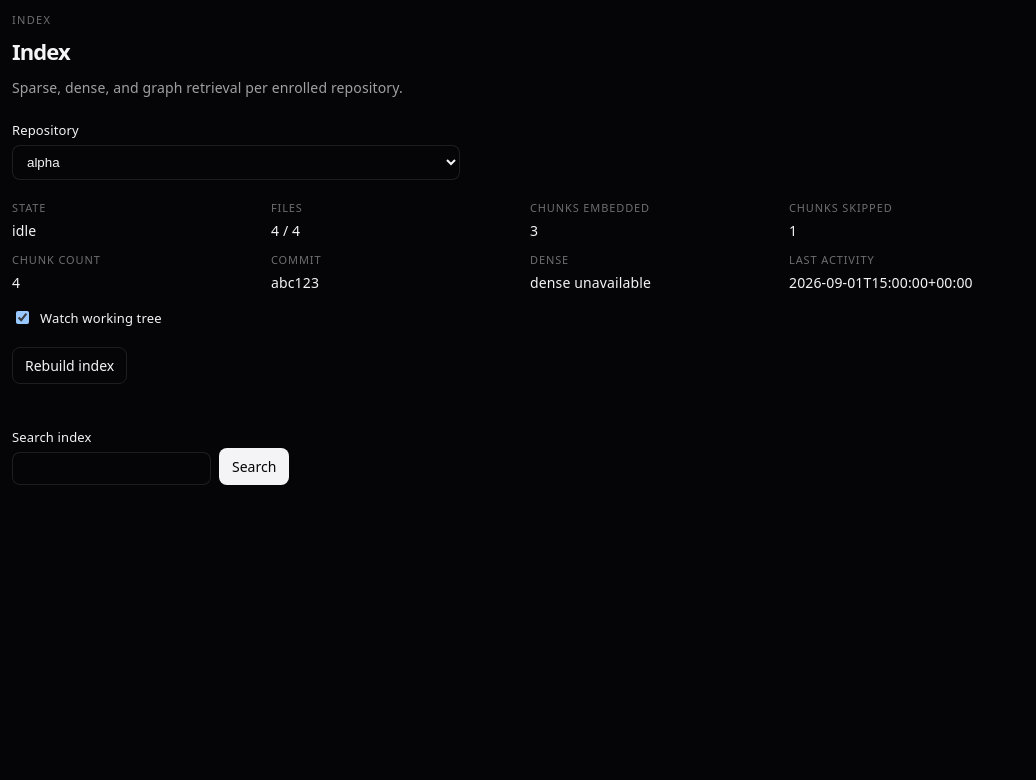
Test case: IndexPage › shows index status and search hits when the engine is ready
Expected: the text "Chunk count" is shown, [12, 252, 101, 267]
Expected: the text "dense unavailable" is shown, [530, 273, 651, 292]
Type "connect" into the search field labelled "Search index" at (112, 469), box [12, 452, 211, 485]
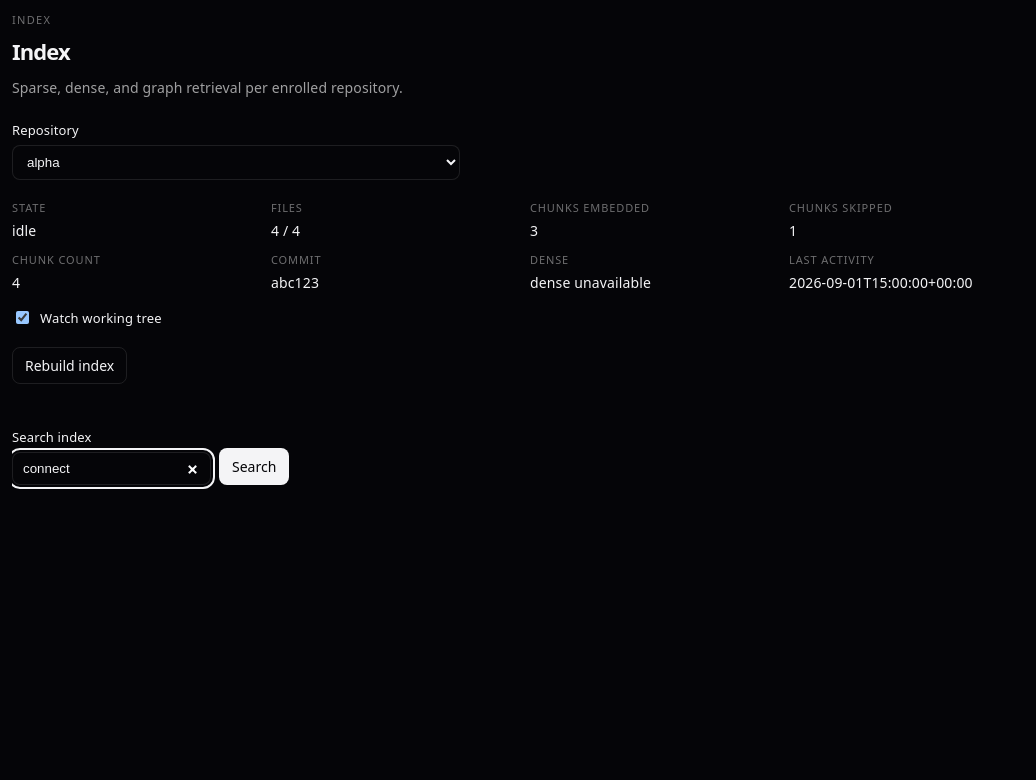
Click the button "Search" at (254, 467), box [219, 448, 289, 485]
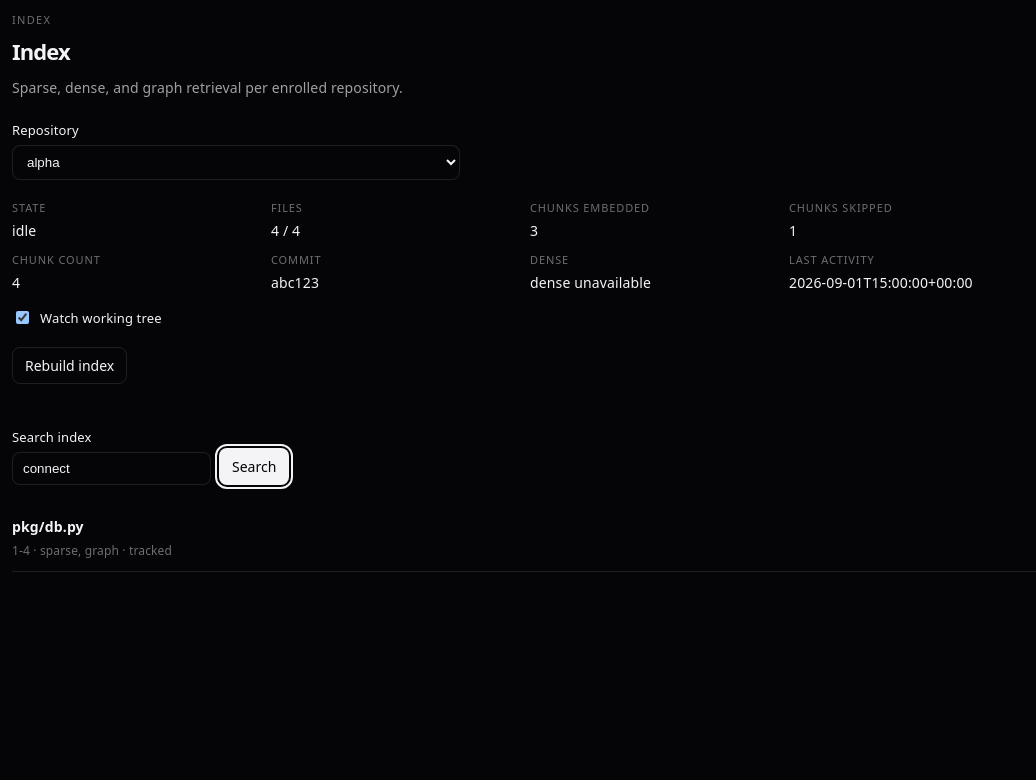
Now the text "pkg/db.py" is shown, box [12, 517, 84, 536]
Now the text "1-4 · sparse, graph · tracked" is shown, box [12, 542, 172, 559]
